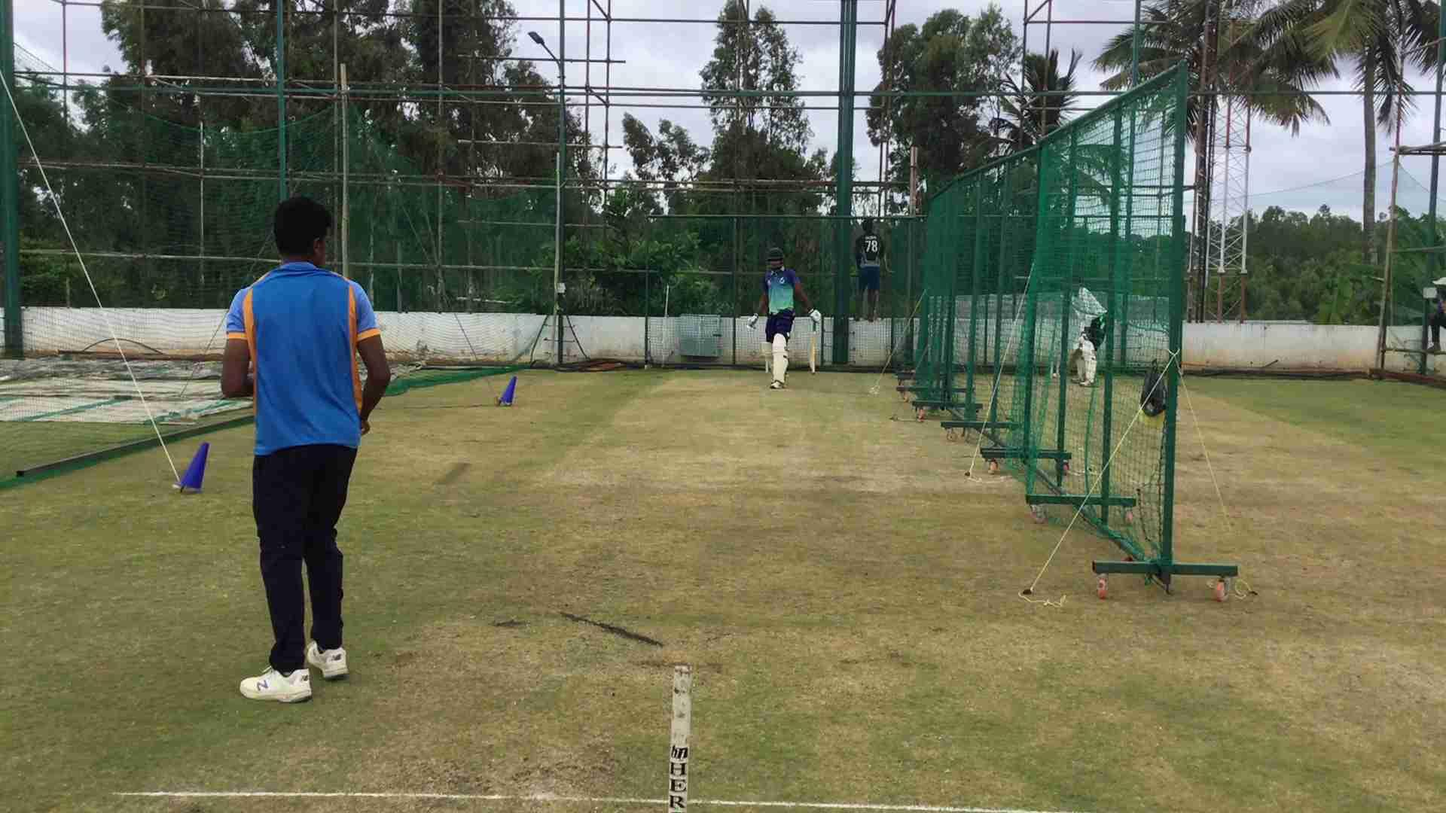batsman: (743, 244, 825, 387)
